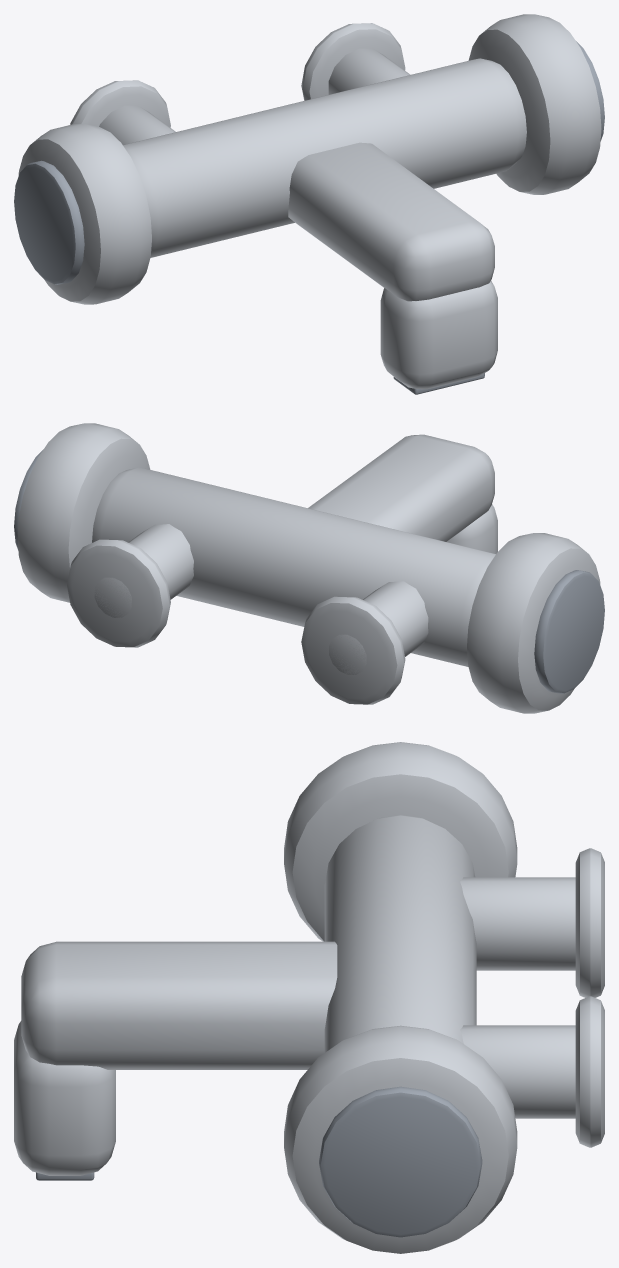
The model's file is torneira_misturador_parede.glb.
3 renders of one model, top to bottom at view 1: azimuth 30°, elevation 25°; view 2: azimuth 150°, elevation 25°; view 3: azimuth 270°, elevation 25°, orthographic. The views are drawn at different scales.
Visible parts, largest first — view 1: torneira_misturador_parede; view 2: torneira_misturador_parede; view 3: torneira_misturador_parede.
Boxes of the visible parts, bbox=[...] form: torneira_misturador_parede: bbox=[14, 14, 604, 394]; torneira_misturador_parede: bbox=[14, 423, 604, 713]; torneira_misturador_parede: bbox=[14, 742, 604, 1253].
Size of the model in its own units: 0.272 by 0.101 by 0.2025.
Materials: 1 (1 with a texture image).
